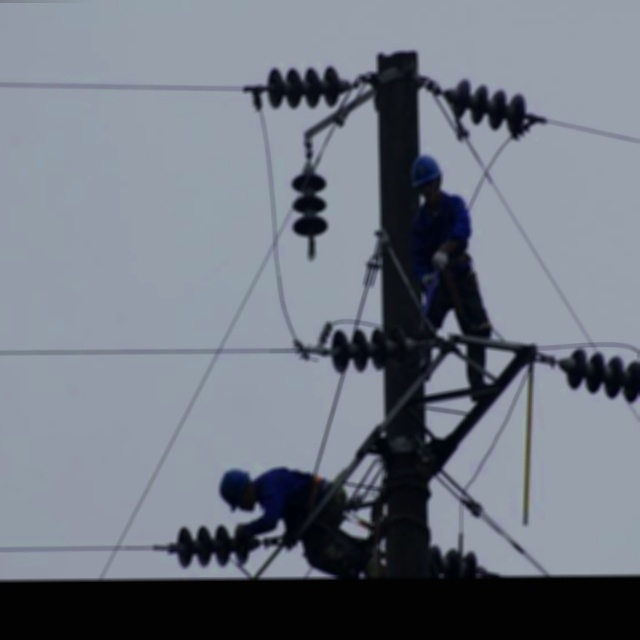Con_Casco: (412, 154, 443, 198)
